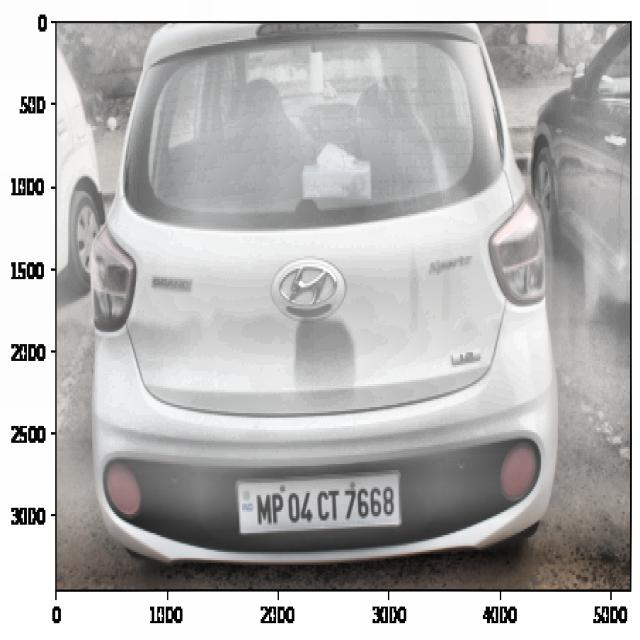license_plate: (252, 480, 399, 529)
